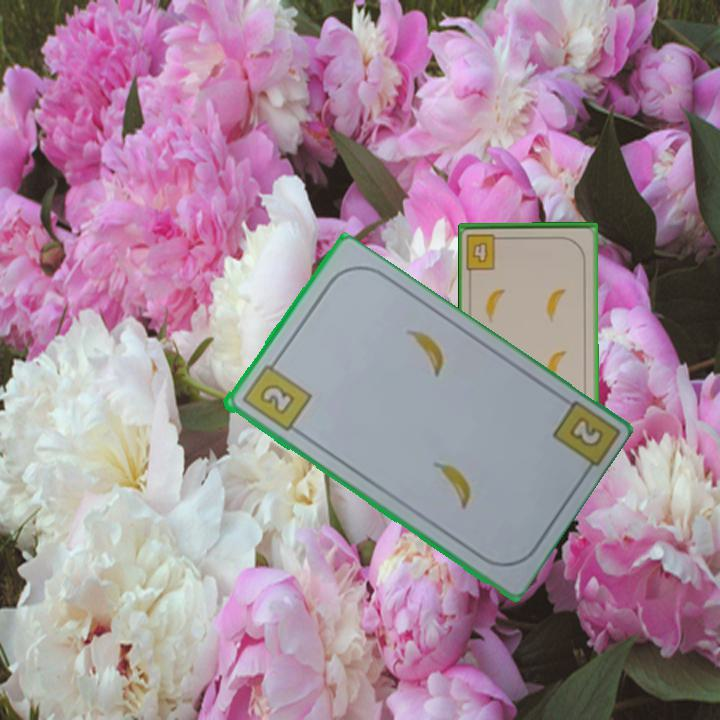2b: (238, 355, 314, 434), (564, 413, 603, 448)
4b: (463, 230, 508, 272)
